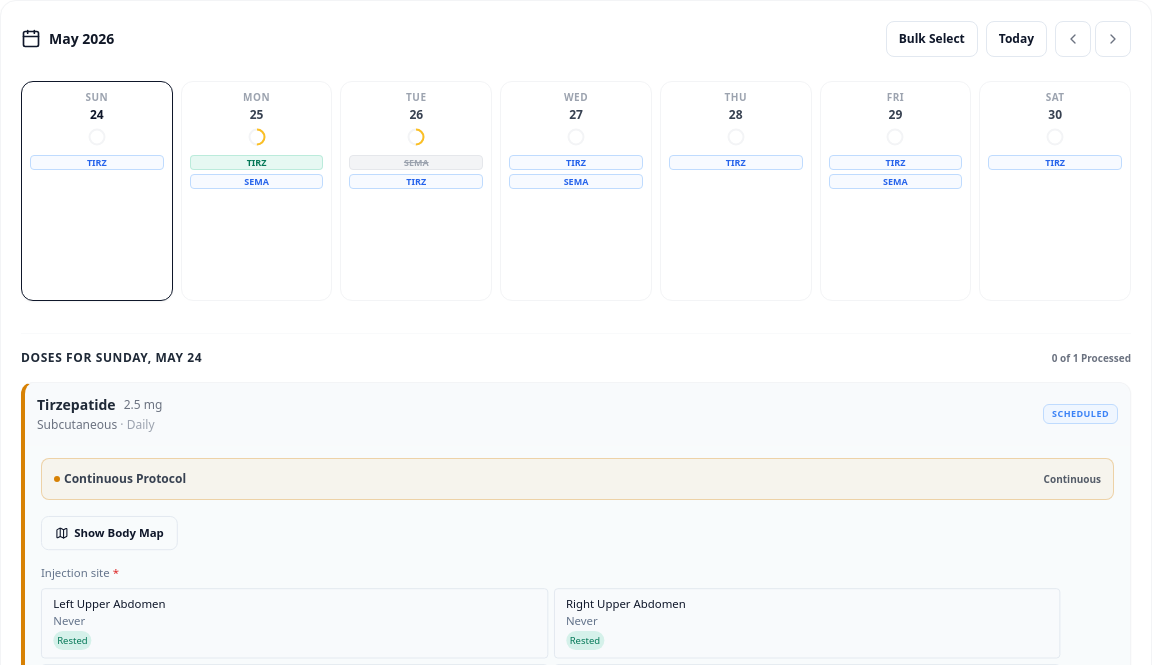
Test case: TrackerCalendar Component UI/UX with JSDOM › shows the dose cadence on the route line
The width and height of the screenshot is (1152, 665).
Click the button with aria-label "May 25": click(257, 191) [181,81,332,301]
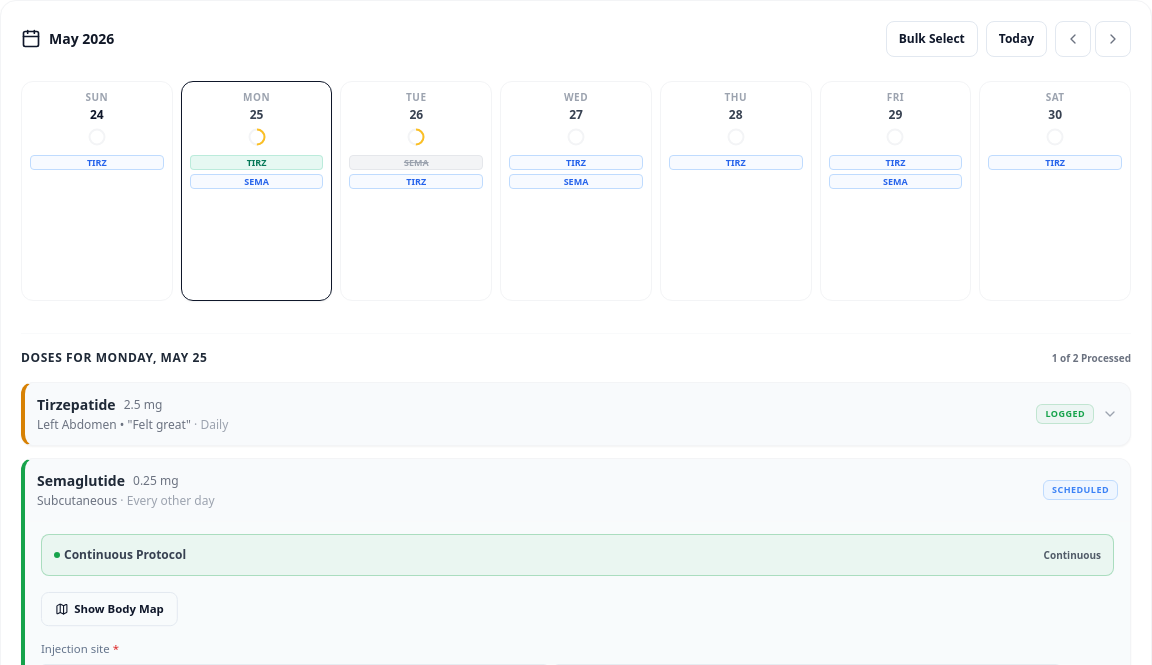
Result: the text "· Every other day" is shown at [117,493,214,509]
